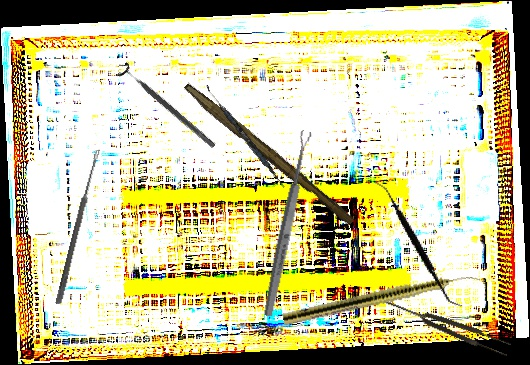Fixation Ring: (115, 61, 220, 154)
Handpiece: (281, 267, 482, 329)
Scalpel Handle: (179, 82, 358, 227)
Spatula Surgical: (341, 179, 496, 309), (202, 84, 288, 189)
Surgical Spoon: (261, 129, 314, 318), (55, 148, 101, 305)
Tissue Forceps: (379, 291, 512, 359)
